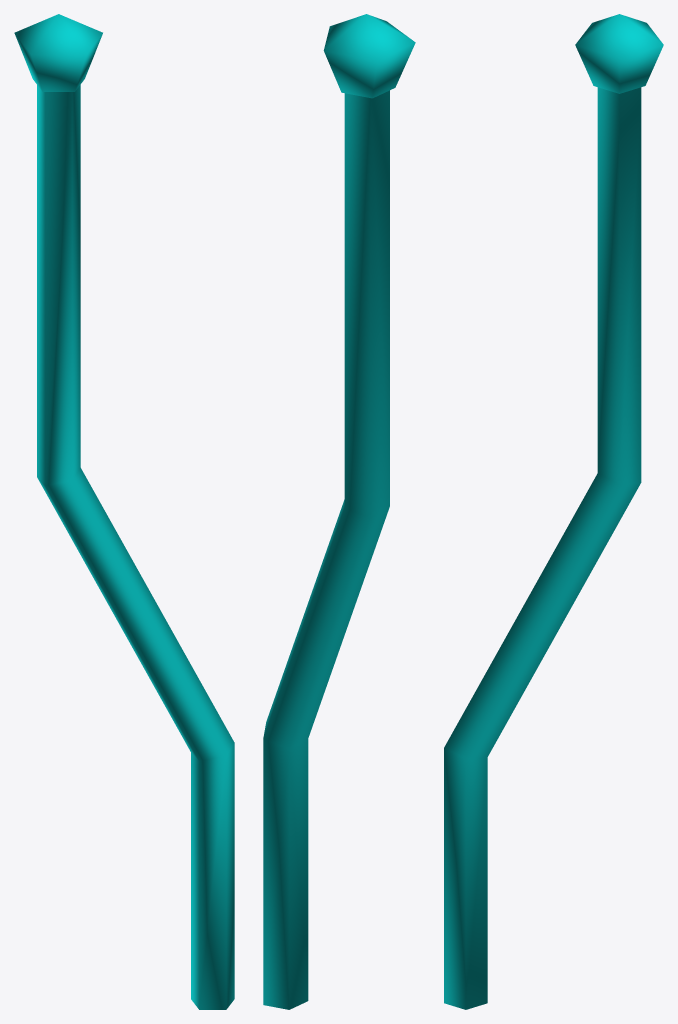
Rendered from original-29.obj.
3 views of the same model, side by side, from view 1: azimuth 90°, elevation 25°; view 2: azimuth 210°, elevation 25°; view 3: azimuth 270°, elevation 25° (orthographic). The views are drawn at different scales.
Visible parts, largest first — view 1: Component_35_17/Component_35_1_2/mesh15/mesh15-geometry#mesh15-g; view 2: Component_35_17/Component_35_1_2/mesh15/mesh15-geometry#mesh15-g; view 3: Component_35_17/Component_35_1_2/mesh15/mesh15-geometry#mesh15-g.
Boxes of the visible parts, x1,y1,x2,y2 form: Component_35_17/Component_35_1_2/mesh15/mesh15-geometry#mesh15-g: (14,14,234,1009); Component_35_17/Component_35_1_2/mesh15/mesh15-geometry#mesh15-g: (263,14,415,1009); Component_35_17/Component_35_1_2/mesh15/mesh15-geometry#mesh15-g: (444,14,663,1009).
Bounding box in the file's own units: 0.00818 × 0.1055 × 0.0213.
